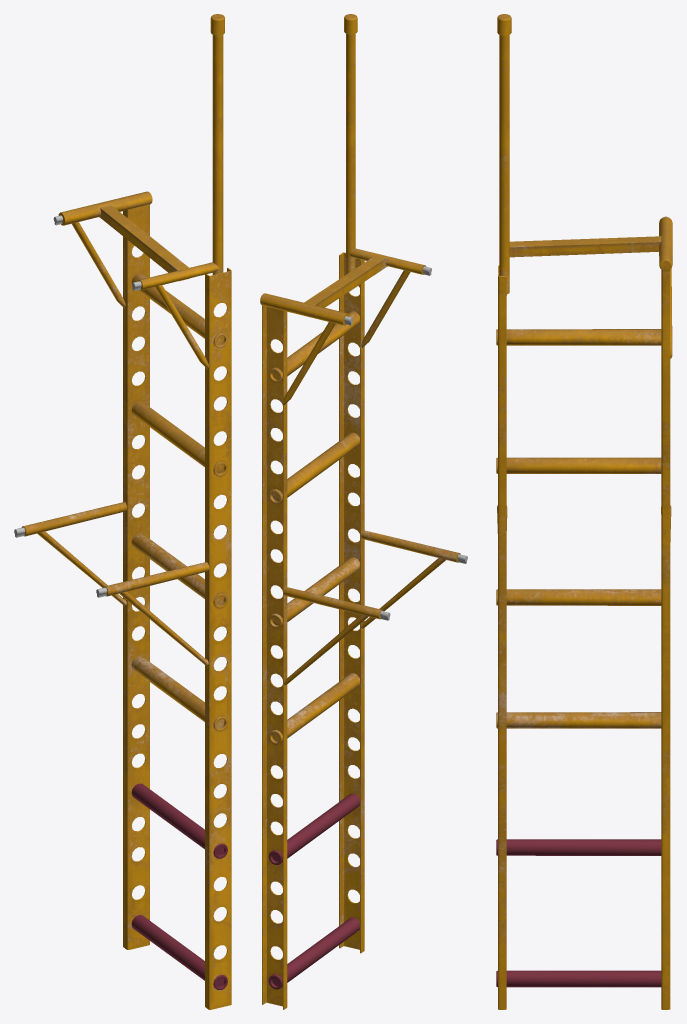
The model's file is maintenance_ladder.obj.
3 renders of one model, left to right at view 1: azimuth 30°, elevation 25°; view 2: azimuth 150°, elevation 25°; view 3: azimuth 270°, elevation 25°, orthographic. The views are drawn at different scales.
Parts seen in each view (by area): view 1: stairs1_stairs_0; view 2: stairs1_stairs_0; view 3: stairs1_stairs_0.
Boxes of the visible parts, x1,y1,x2,y2 form: stairs1_stairs_0: (14, 14, 231, 1009); stairs1_stairs_0: (260, 14, 467, 1009); stairs1_stairs_0: (496, 14, 672, 1009).
Bounding box in the file's own units: 0.3205 × 2.26 × 0.366.
Materials: 1 (1 with a texture image).
